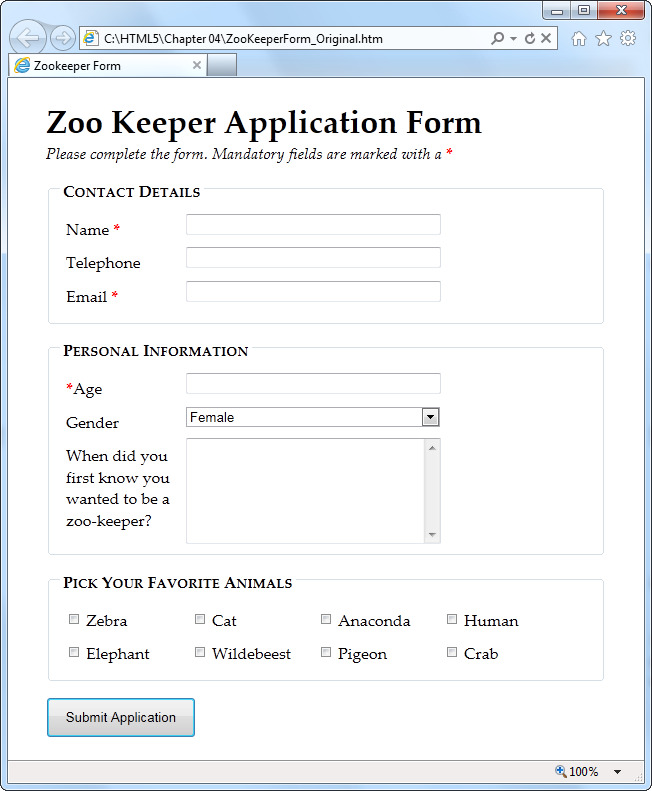_form_: (38, 362, 531, 746), (46, 147, 462, 563)
button: (45, 695, 197, 740)
checkbox: (444, 611, 459, 625), (193, 644, 207, 658), (67, 612, 82, 625), (67, 645, 80, 658), (319, 644, 332, 657), (193, 611, 205, 625), (447, 645, 458, 658), (321, 612, 332, 624)
checkbox_with_label: (190, 643, 291, 662), (319, 611, 411, 629), (441, 610, 518, 629), (64, 644, 154, 660), (316, 643, 387, 660), (63, 611, 127, 629), (445, 643, 497, 660), (190, 610, 238, 628)
field: (181, 436, 444, 547), (77, 25, 559, 52), (182, 278, 444, 305), (180, 244, 443, 270), (181, 371, 441, 397), (181, 211, 441, 235)
field_with_label: (65, 435, 446, 552), (66, 276, 447, 307), (67, 369, 444, 399), (66, 209, 443, 237), (68, 243, 444, 271), (63, 403, 445, 430)
select: (185, 406, 441, 427)
